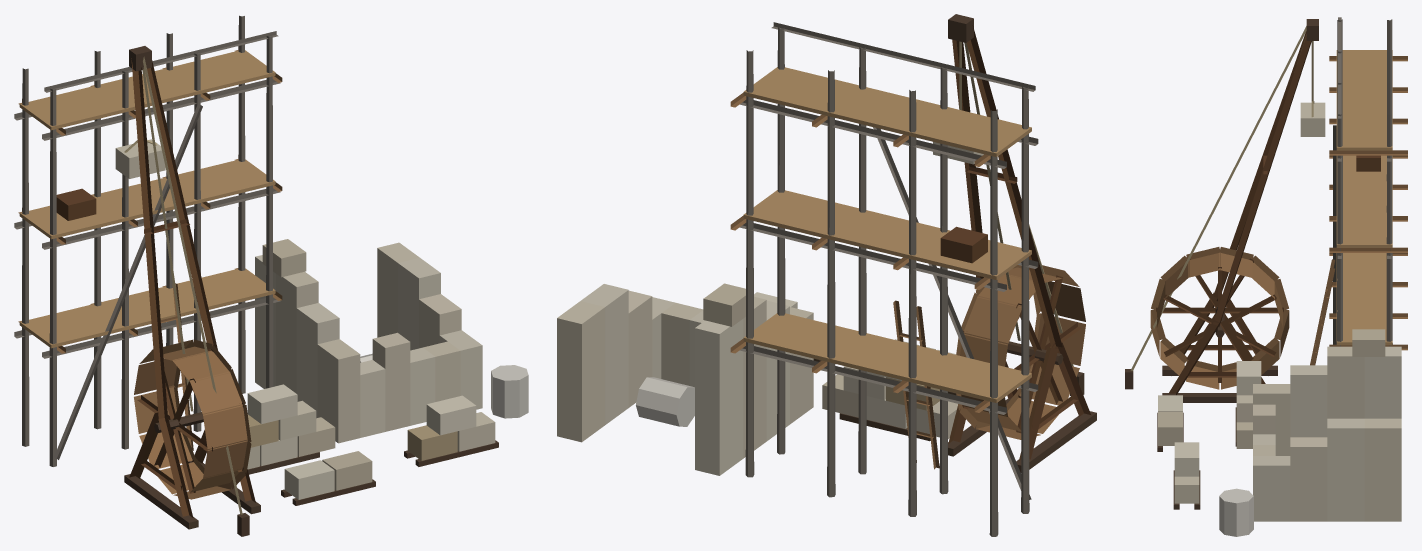
File: office-works.glb
3 views of the same model, side by side, from view 1: azimuth 30°, elevation 25°; view 2: azimuth 150°, elevation 25°; view 3: azimuth 270°, elevation 25° (orthographic). The views are drawn at different scales.
Parts seen in each view (by area): view 1: works_body, works_wheel, works_block; view 2: works_body, works_wheel; view 3: works_body, works_wheel, works_block.
Boxes of the visible parts, x1,y1,x2,y2 form: works_body: (14,15,528,536); works_wheel: (134,339,251,499); works_block: (115,139,165,178); works_body: (557,14,1096,536); works_wheel: (956,265,1085,439); works_body: (1125,17,1407,536); works_wheel: (1150,247,1289,389); works_block: (1300,41,1325,136).
Bounding box in the file's own units: 10.62 × 9.79 × 6.85.
